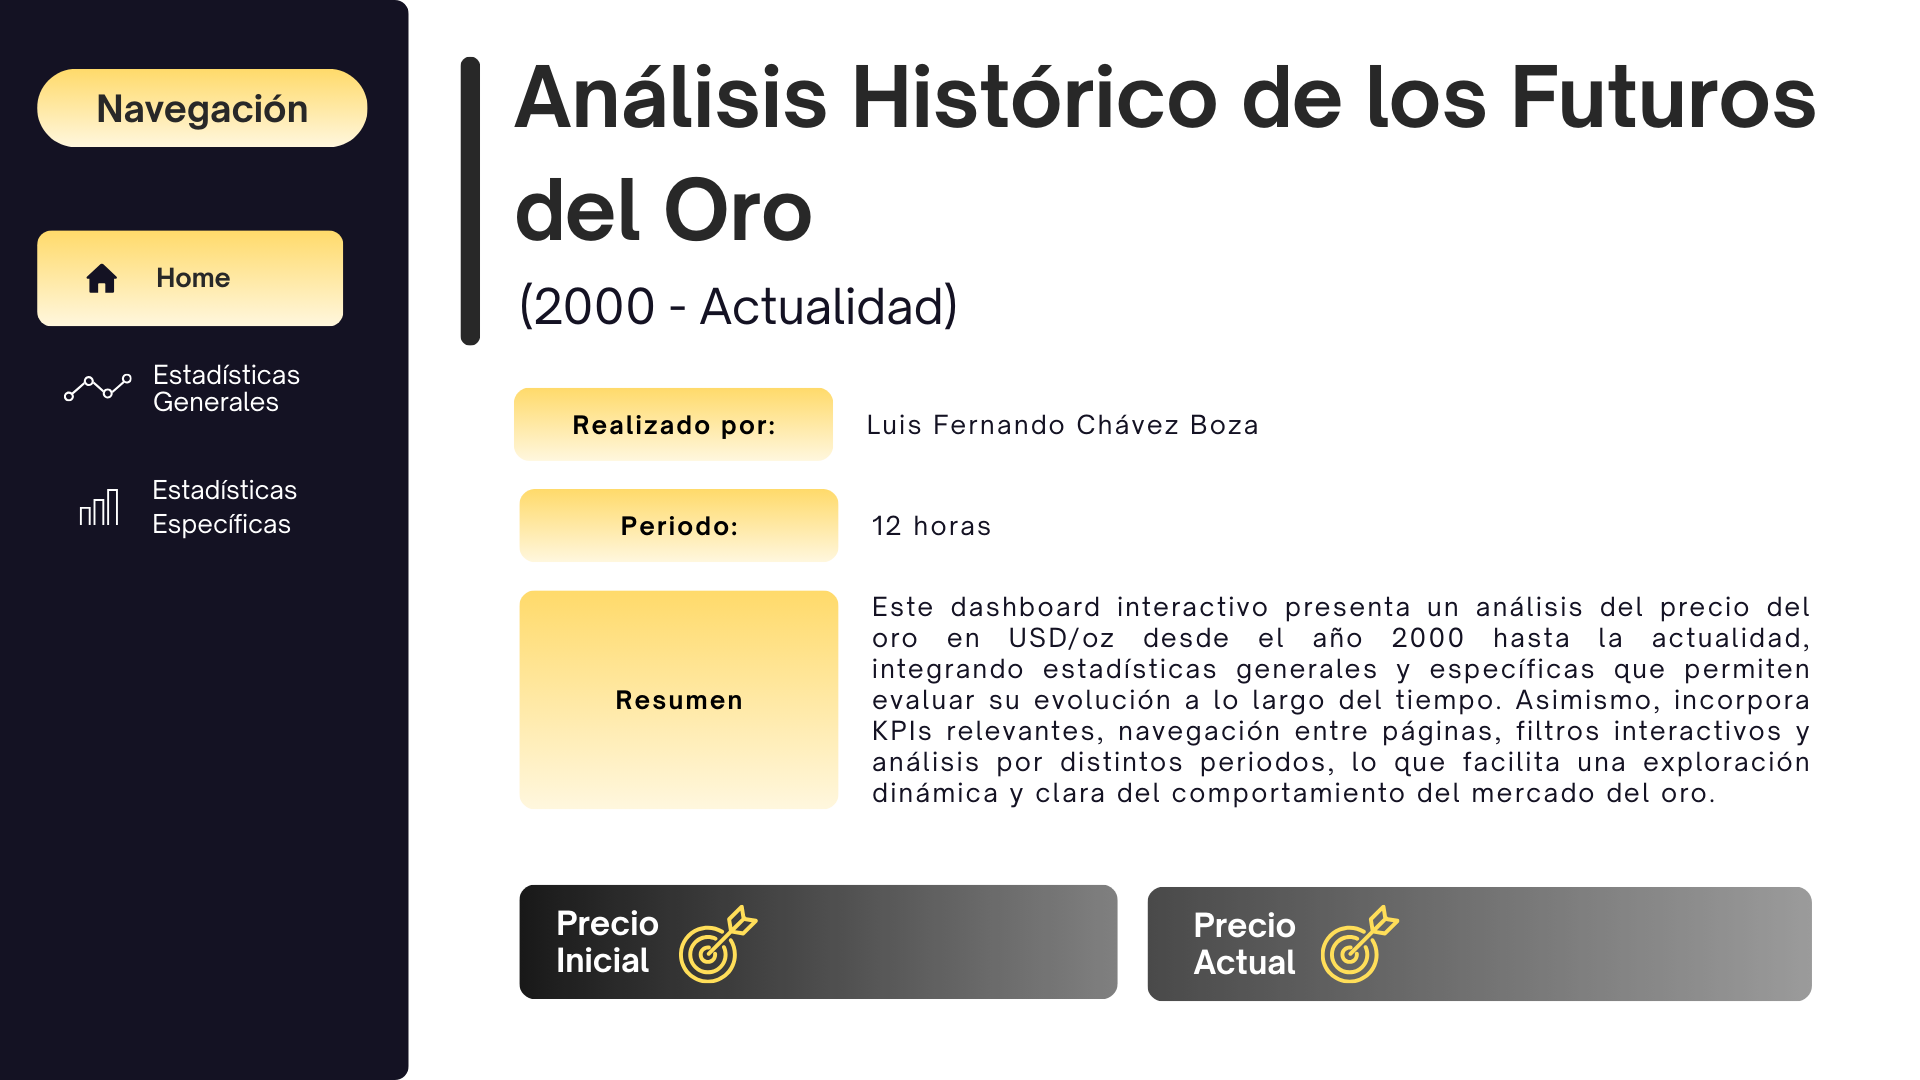

This screenshot's page, from the dashboard's own definition file:
{"tool":"powerbi","page":{"name":"Home","canvas":[1280,720],"ordinal":0},"visuals":[{"type":"cardVisual","fields":{"Data":["Oro_historico_2000.Precio Inicial"]},"box":[452,562.5,290.8,126.3],"z":0},{"type":"cardVisual","fields":{"Data":["Oro_historico_2000.Precio Actual"]},"box":[902.6,551.3,300,149.3],"z":1000},{"type":"actionButton","box":[27.5,230,205,56.2],"z":2000},{"type":"actionButton","box":[27.5,303.8,205,56.2],"z":3000}]}

Visuals, with their boxes in screenshot pixels (x1, y1, x2, y2), scaled from the page's 1280x720 canvas onto the 1920x1080 screenshot:
cardVisual - Oro_historico_2000.Precio Inicial: crop(678, 844, 1114, 1033)
cardVisual - Oro_historico_2000.Precio Actual: crop(1354, 827, 1804, 1051)
actionButton: crop(41, 345, 349, 429)
actionButton: crop(41, 456, 349, 540)
